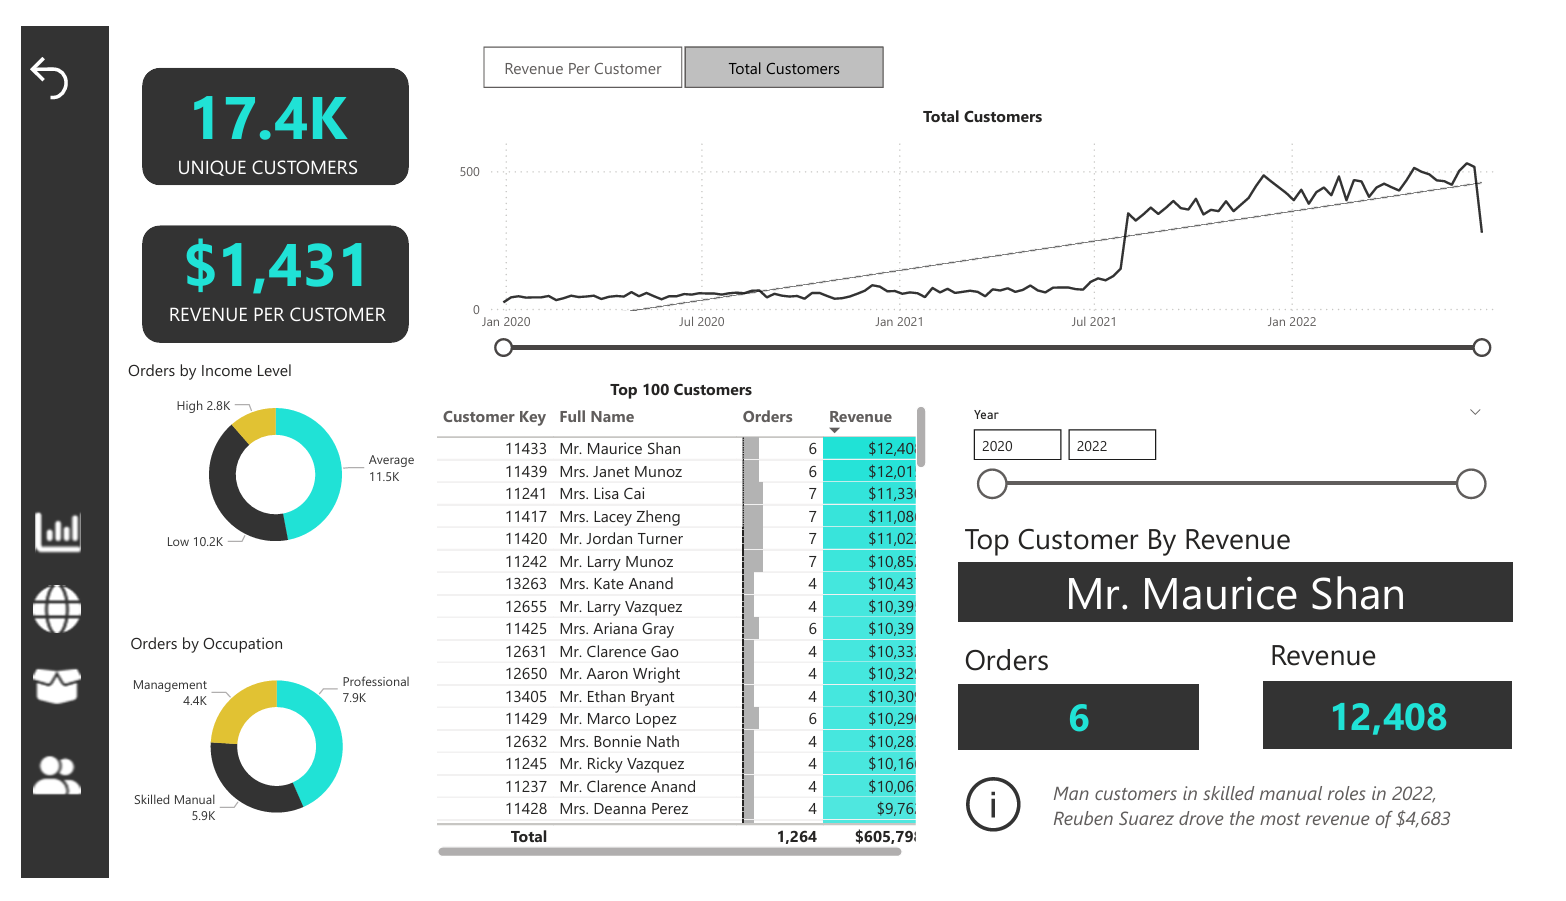

Layout of this report page (visuals, bound fields, positions):
{"tool":"powerbi","page":{"name":"Customer Detail","canvas":[1280,720],"ordinal":3},"visuals":[{"type":"shape","box":[0,0,74.3,718.7],"z":0},{"type":"shape","box":[102.3,34.6,225,99.1],"z":1000},{"type":"actionButton","box":[5.9,466,47.6,51.5],"z":1000,"group":"g1"},{"type":"card","fields":{"Values":["Measure Table.Total Customers"]},"box":[102.2,20.1,212.2,128.6],"z":2000},{"type":"actionButton","box":[5.9,608.7,53.5,47.6],"z":2000,"group":"g1"},{"type":"actionButton","box":[5.9,533.4,53.5,47.6],"z":3000,"group":"g1"},{"type":"shape","box":[102.3,168.3,225,99.1],"z":3000},{"type":"card","fields":{"Values":["Measure Table.Average Revenue Per Customer"]},"box":[108.6,133.7,214,149.5],"z":4000},{"type":"actionButton","box":[7.8,397.4,45.6,59.5],"z":5000,"group":"g1"},{"type":"lineChart","fields":{"Y":["Measure Table.Total Customers"],"Category":["Calendar Lookup.Date Hierarchy.Start of Year","Calendar Lookup.Date Hierarchy.Start of Month","Calendar Lookup.Date Hierarchy.Start of Week","Calendar Lookup.Date Hierarchy.Date"]},"box":[364.3,66.9,894.6,215],"z":5000},{"type":"donutChart","title":"Orders by Income Level","fields":{"Category":["Customer Lookup.Income Level"],"Y":["Measure Table.Total Orders"]},"box":[85.4,280.9,258.9,176.2],"z":6000},{"type":"donutChart","title":"Orders by Occupation","fields":{"Y":["Measure Table.Total Orders"],"Category":["Customer Lookup.Occupation"]},"box":[86.7,511.1,257.1,175],"z":7000},{"type":"tableEx","title":"Top 100 Customers","fields":{"Values":["Customer Lookup.CustomerKey","Customer Lookup.FullName","Measure Table.Total Orders","Measure Table.Total Revenue"]},"box":[345,297.4,424.3,408.4],"z":8000},{"type":"card","fields":{"Values":["Measure Table.Full Name  (Customer Details)"]},"box":[791.5,452.3,467.8,49.6],"z":9000},{"type":"card","fields":{"Values":["Measure Table.Total Orders(Customer Details)"]},"box":[791.5,554.5,202.9,55.8],"z":10000},{"type":"card","fields":{"Values":["Measure Table.Total Revenue (Customer Details)"]},"box":[1048.6,553,210.7,57.3],"z":11000},{"type":"textbox","box":[791.5,410.5,463.1,41.8],"z":12000},{"type":"textbox","box":[791.1,511.5,190.3,45.6],"z":13000},{"type":"textbox","box":[1048.8,507.6,206.2,45.6],"z":14000},{"type":"slicer","fields":{"Values":["Calendar Lookup.Year"]},"box":[791.5,316,453.8,94.5],"z":15000},{"type":"actionButton","box":[791.5,627.3,447.6,58.9],"z":16000},{"type":"actionButton","box":[0,19.8,53.5,47.6],"z":17000},{"type":"group","id":"g1","title":"Navigation Buttons","box":[5.9,397.4,53.5,258.9],"z":18000},{"type":"slicer","fields":{"Values":["Customer Metric Selction.Customer Metric Selction"]},"box":[364.3,10.3,387.5,48.9],"z":19000}]}

Visuals, with their boxes in screenshot pixels (x1, y1, x2, y2), scaled from the page's 1280x720 canvas onto the 1566x901 screenshot:
shape: locate(0, 0, 91, 899)
shape: locate(125, 43, 400, 167)
actionButton: locate(7, 583, 65, 648)
card - Measure Table.Total Customers: locate(125, 25, 385, 186)
actionButton: locate(7, 762, 73, 821)
actionButton: locate(7, 667, 73, 727)
shape: locate(125, 211, 400, 335)
card - Measure Table.Average Revenue Per Customer: locate(133, 167, 395, 354)
actionButton: locate(10, 497, 65, 572)
lineChart - Measure Table.Total Customers x Calendar Lookup.Date Hierarchy.Start of Year: locate(446, 84, 1540, 353)
"Orders by Income Level" donutChart: locate(104, 352, 421, 572)
"Orders by Occupation" donutChart: locate(106, 640, 421, 859)
"Top 100 Customers" tableEx: locate(422, 372, 941, 883)
card - Measure Table.Full Name  (Customer Details): locate(968, 566, 1541, 628)
card - Measure Table.Total Orders(Customer Details): locate(968, 694, 1217, 764)
card - Measure Table.Total Revenue (Customer Details): locate(1283, 692, 1541, 764)
textbox: locate(968, 514, 1535, 566)
textbox: locate(968, 640, 1201, 697)
textbox: locate(1283, 635, 1535, 692)
slicer - Calendar Lookup.Year: locate(968, 395, 1524, 514)
actionButton: locate(968, 785, 1516, 859)
actionButton: locate(0, 25, 65, 84)
"Navigation Buttons" group: locate(7, 497, 73, 821)
slicer - Customer Metric Selction.Customer Metric Selction: locate(446, 13, 920, 74)
